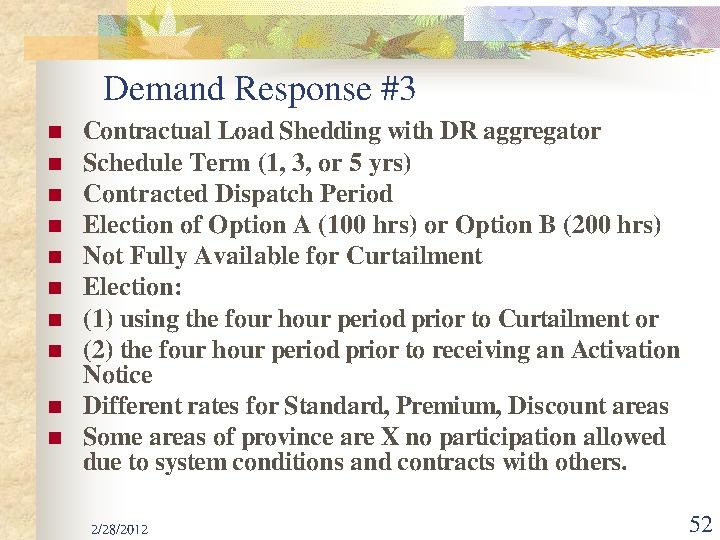paragraph: (65, 109, 711, 496)
title: (102, 65, 432, 114)
